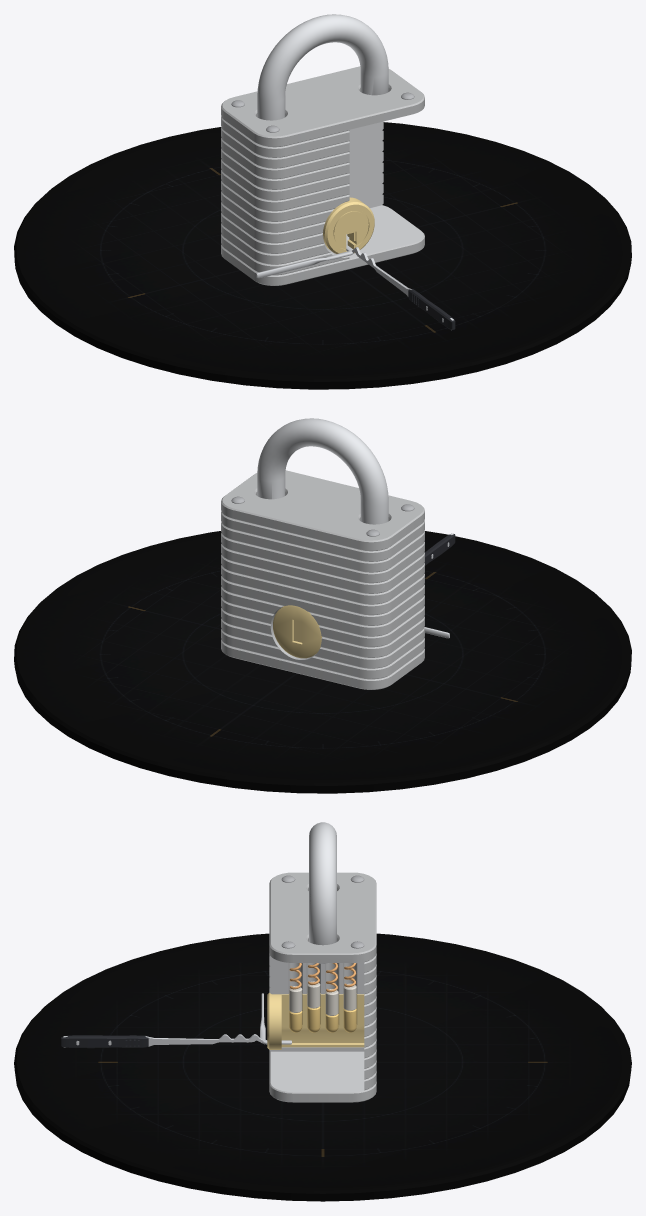
Rendered from master_no3_padlock.glb.
3 renders of one model, top to bottom at view 1: azimuth 30°, elevation 25°; view 2: azimuth 150°, elevation 25°; view 3: azimuth 270°, elevation 25°, orthographic.
Parts seen in each view (by area): view 1: Bench, Body_Cutaway, Shackle, Core_Plug, HookPick, TensionWrench; view 2: Bench, Body_Cutaway, Shackle, Core_Plug; view 3: Bench, Body_Cutaway, Core_Plug, Shackle, HookPick, RakePick.
Part boxes in pixels (box(x1,y1,x2,y2)): Bench: box(14, 122, 631, 389); Body_Cutaway: box(221, 66, 424, 285); Shackle: box(257, 14, 388, 120); Core_Plug: box(323, 197, 374, 253); HookPick: box(355, 247, 455, 327); TensionWrench: box(256, 244, 353, 278); Bench: box(14, 531, 631, 793); Body_Cutaway: box(221, 470, 424, 689); Shackle: box(257, 418, 388, 524); Core_Plug: box(273, 605, 321, 658); Bench: box(14, 933, 631, 1201); Body_Cutaway: box(269, 872, 376, 1102); Core_Plug: box(267, 992, 364, 1049); Shackle: box(309, 822, 336, 963); HookPick: box(61, 1034, 256, 1045); RakePick: box(61, 1034, 263, 1048).
Size of the model in its own units: 1.5 by 0.6537 by 1.5.
Materials: 11 (1 with a texture image).
